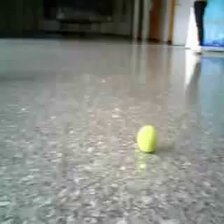tennis: (136, 125, 159, 152)
